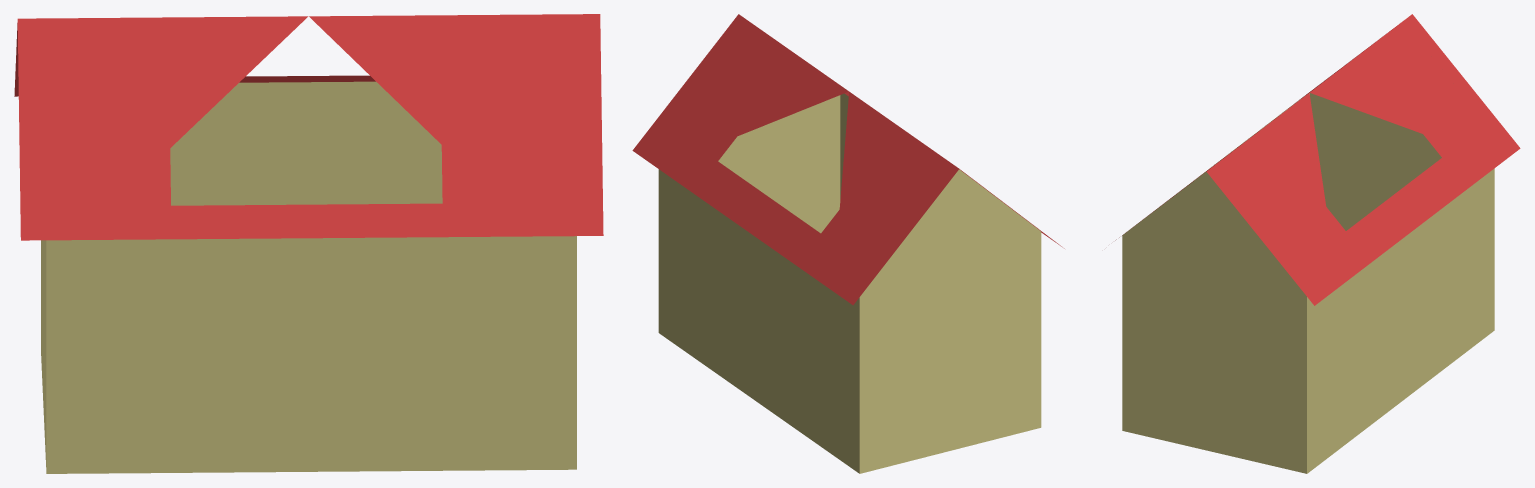
3 renders of one model, left to right at view 1: azimuth 30°, elevation 25°; view 2: azimuth 150°, elevation 25°; view 3: azimuth 270°, elevation 25°, orthographic. The views are drawn at different scales.
Bounding box in the file's own units: 19.43 × 16.7 × 12.51.
